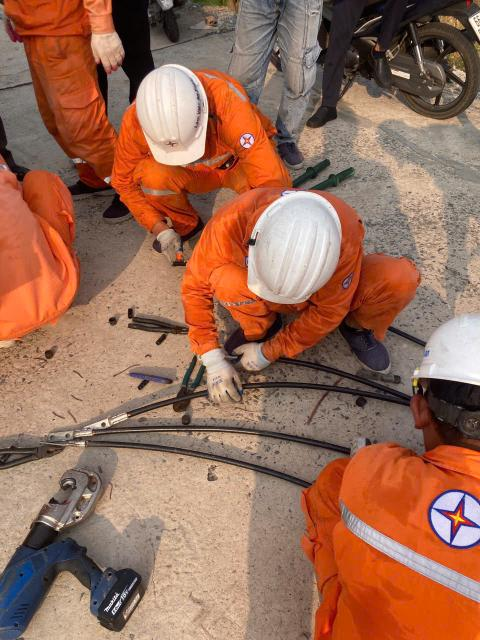gloves: (188, 353, 252, 412), (225, 334, 277, 382), (148, 232, 192, 270)
helmet: (240, 193, 350, 303), (132, 62, 220, 169), (406, 278, 480, 402)
shoes: (335, 317, 398, 381), (98, 194, 151, 228), (215, 325, 288, 349), (300, 97, 343, 136), (362, 47, 401, 88), (274, 132, 315, 168), (63, 176, 117, 197)
